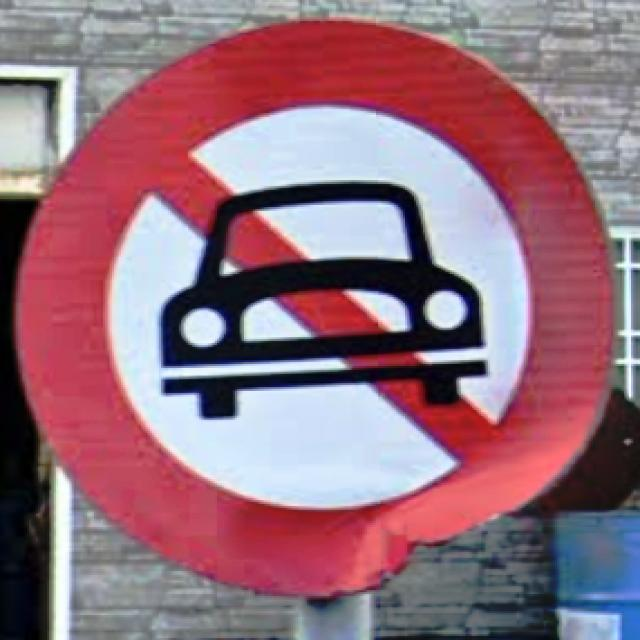nocar: (11, 17, 615, 600)
